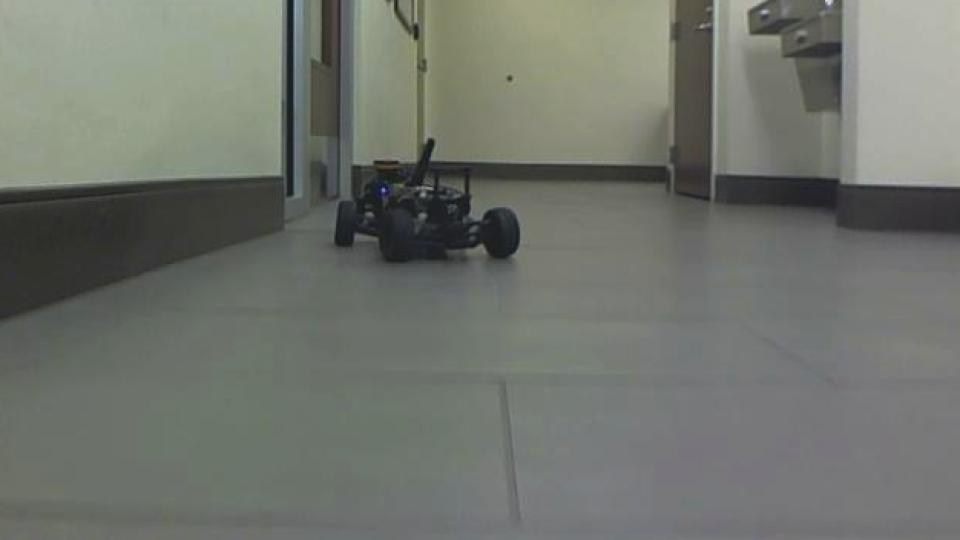car: (330, 135, 523, 265)
